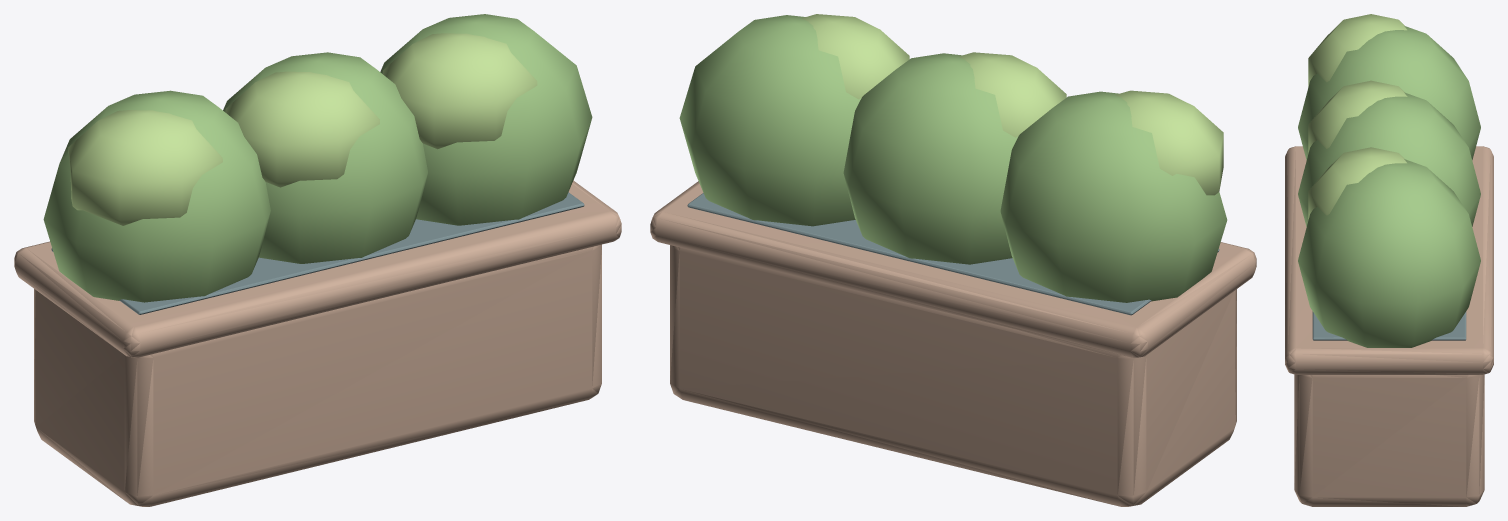
File: LowPlanter.fbx
The picture shows the model from 3 angles, left to right: view 1: azimuth 30°, elevation 25°; view 2: azimuth 150°, elevation 25°; view 3: azimuth 270°, elevation 25°; orthographic projection. The views are drawn at different scales.
Visible parts, largest first — view 1: LowPlanter; view 2: LowPlanter; view 3: LowPlanter.
Part boxes in pixels (left/top/right/bottom): LowPlanter: left=14, top=14, right=621, bottom=506; LowPlanter: left=650, top=14, right=1256, bottom=506; LowPlanter: left=1285, top=14, right=1493, bottom=506.
Bounding box in the file's own units: 1.41 × 0.94 × 0.57.
